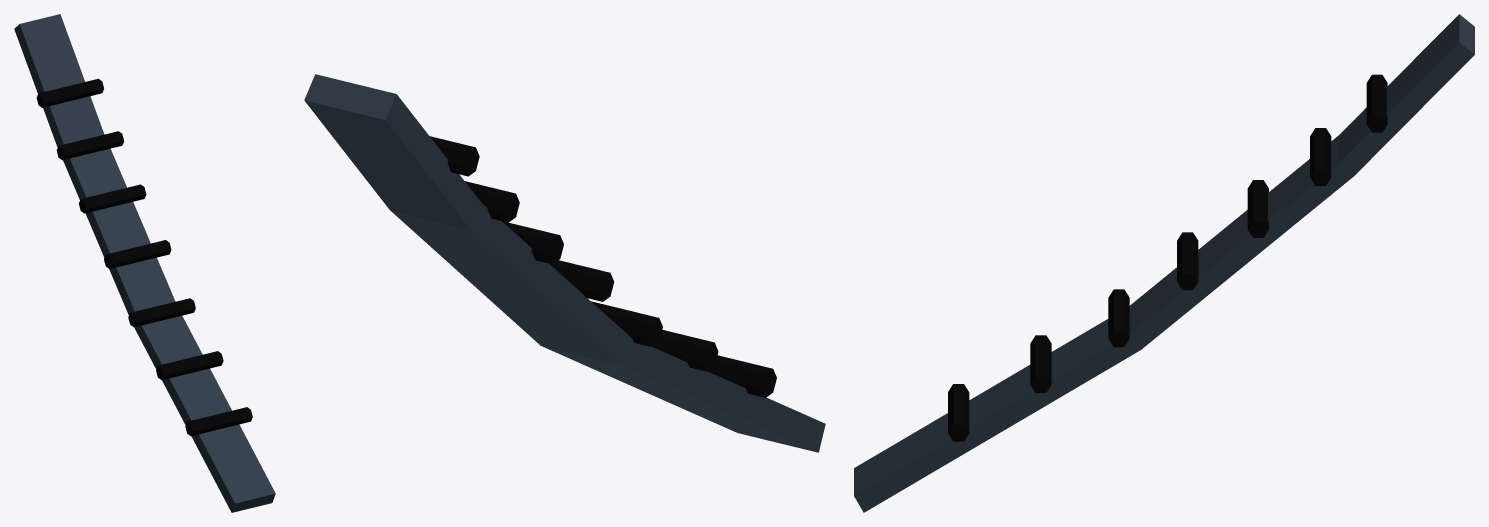
File: Roof_Object5_JP_Tiles.fbx
3 renders of one model, left to right at view 1: azimuth 30°, elevation 25°; view 2: azimuth 150°, elevation 25°; view 3: azimuth 270°, elevation 25°, orthographic. The views are drawn at different scales.
Visible parts, largest first — view 1: Roof_Object5_JP_Tiles_LOD0; view 2: Roof_Object5_JP_Tiles_LOD0; view 3: Roof_Object5_JP_Tiles_LOD0.
Part boxes in pixels (bbox=[...]): Roof_Object5_JP_Tiles_LOD0: bbox=[14, 14, 275, 512]; Roof_Object5_JP_Tiles_LOD0: bbox=[304, 74, 825, 452]; Roof_Object5_JP_Tiles_LOD0: bbox=[854, 14, 1474, 512].
Size of what is drawn, in the model's own units: 93.52 by 497 by 594.
